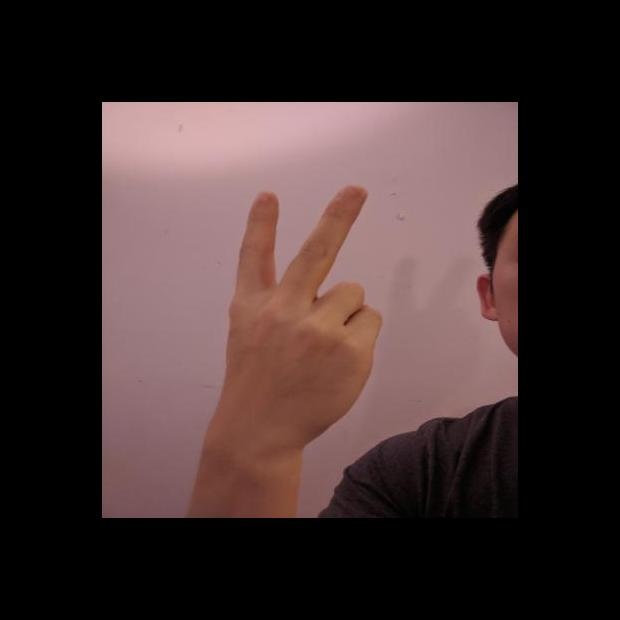U: (205, 181, 387, 446)
